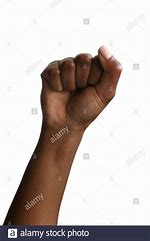closed: (39, 44, 122, 132)
